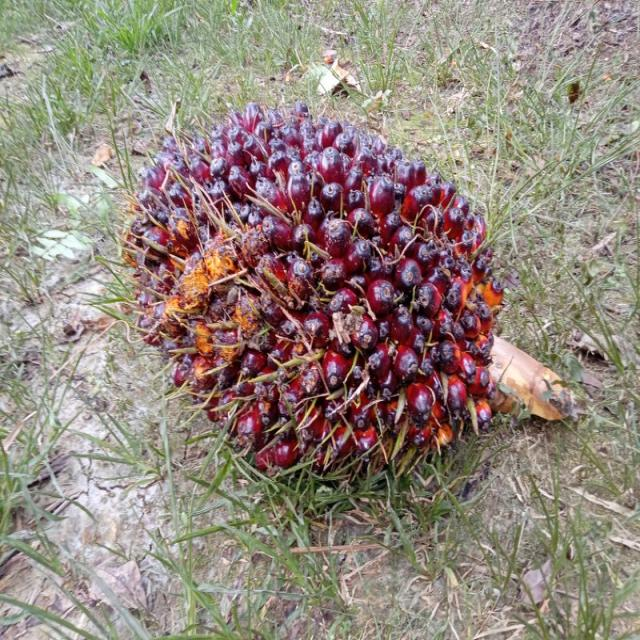fraksi 1: (108, 55, 577, 535)
